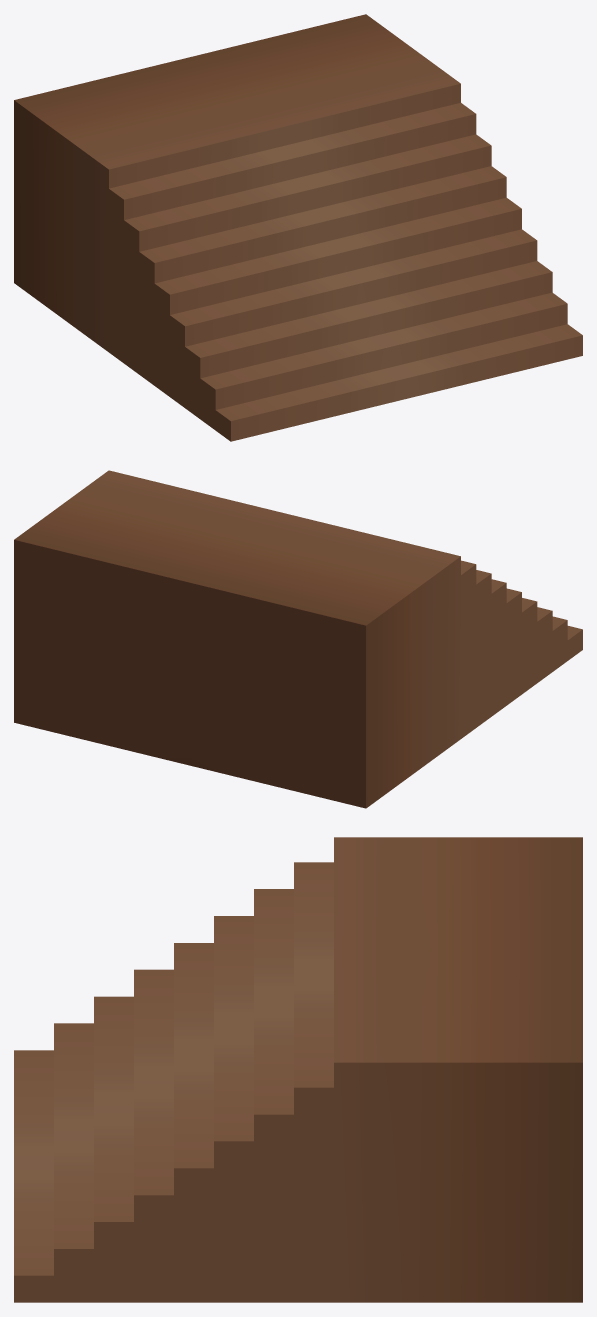
The model's file is SkateboardStairset.glb.
3 views of the same model, one above another, from view 1: azimuth 30°, elevation 25°; view 2: azimuth 150°, elevation 25°; view 3: azimuth 270°, elevation 25° (orthographic). The views are drawn at different scales.
Visible parts, largest first — view 1: SkateboardStairset; view 2: SkateboardStairset; view 3: SkateboardStairset.
Boxes of the visible parts, x1,y1,x2,y2 form: SkateboardStairset: [14, 14, 582, 441]; SkateboardStairset: [14, 470, 582, 808]; SkateboardStairset: [14, 837, 582, 1302].
Size of the model in its own units: 4 by 1.99 by 4.27.
1 material, 1 textured.
